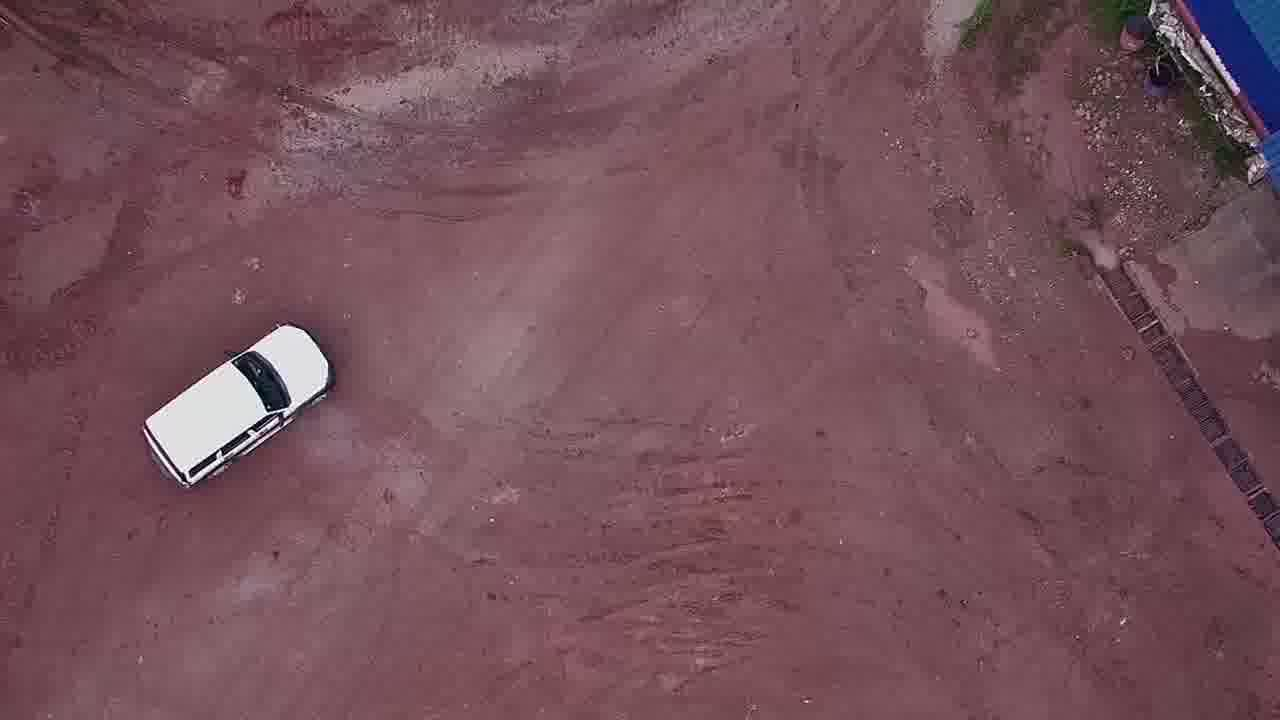light_motor_vehicle: (116, 322, 342, 491)
